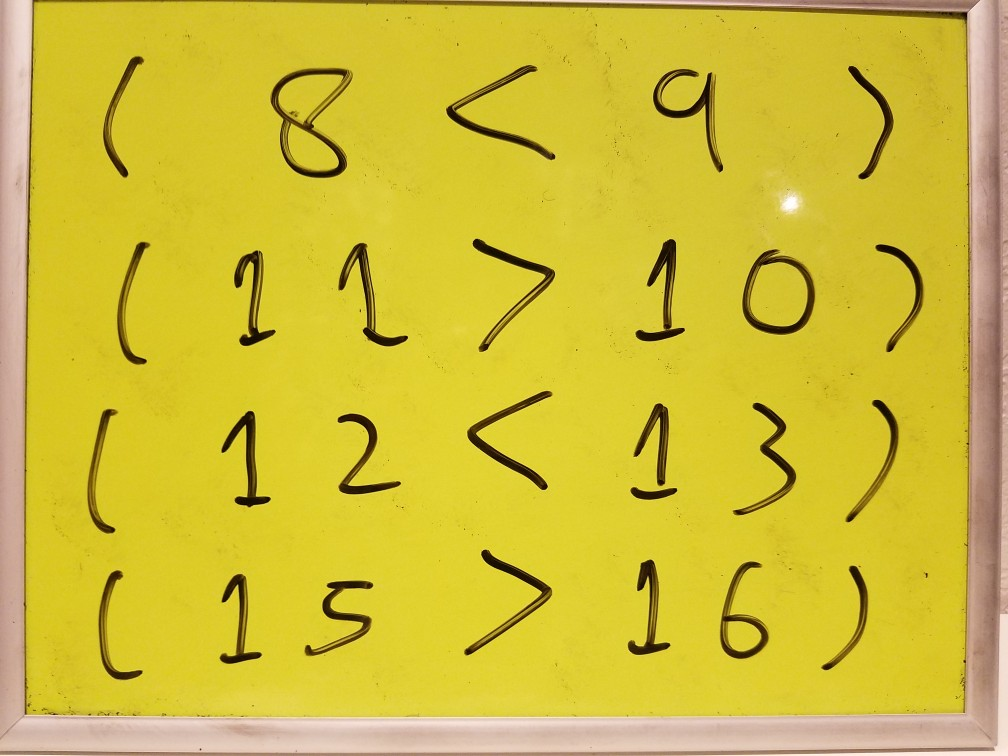(: (86, 42, 156, 186), (97, 228, 165, 375), (71, 395, 140, 539), (83, 563, 153, 691)
): (830, 48, 907, 188), (834, 389, 911, 528), (862, 229, 932, 358), (813, 556, 885, 673)
0: (734, 240, 821, 344)
1: (326, 233, 416, 358), (615, 394, 695, 510), (206, 397, 280, 517), (626, 227, 695, 354), (612, 553, 679, 670), (206, 566, 270, 679), (220, 238, 281, 354)
2: (323, 403, 410, 511)
3: (727, 388, 800, 527)
5: (295, 565, 383, 670)
6: (711, 553, 782, 665)
8: (262, 57, 358, 187)
9: (641, 52, 739, 181)
<: (448, 379, 570, 504), (436, 56, 562, 166)
>: (457, 535, 565, 666), (457, 226, 562, 351)
